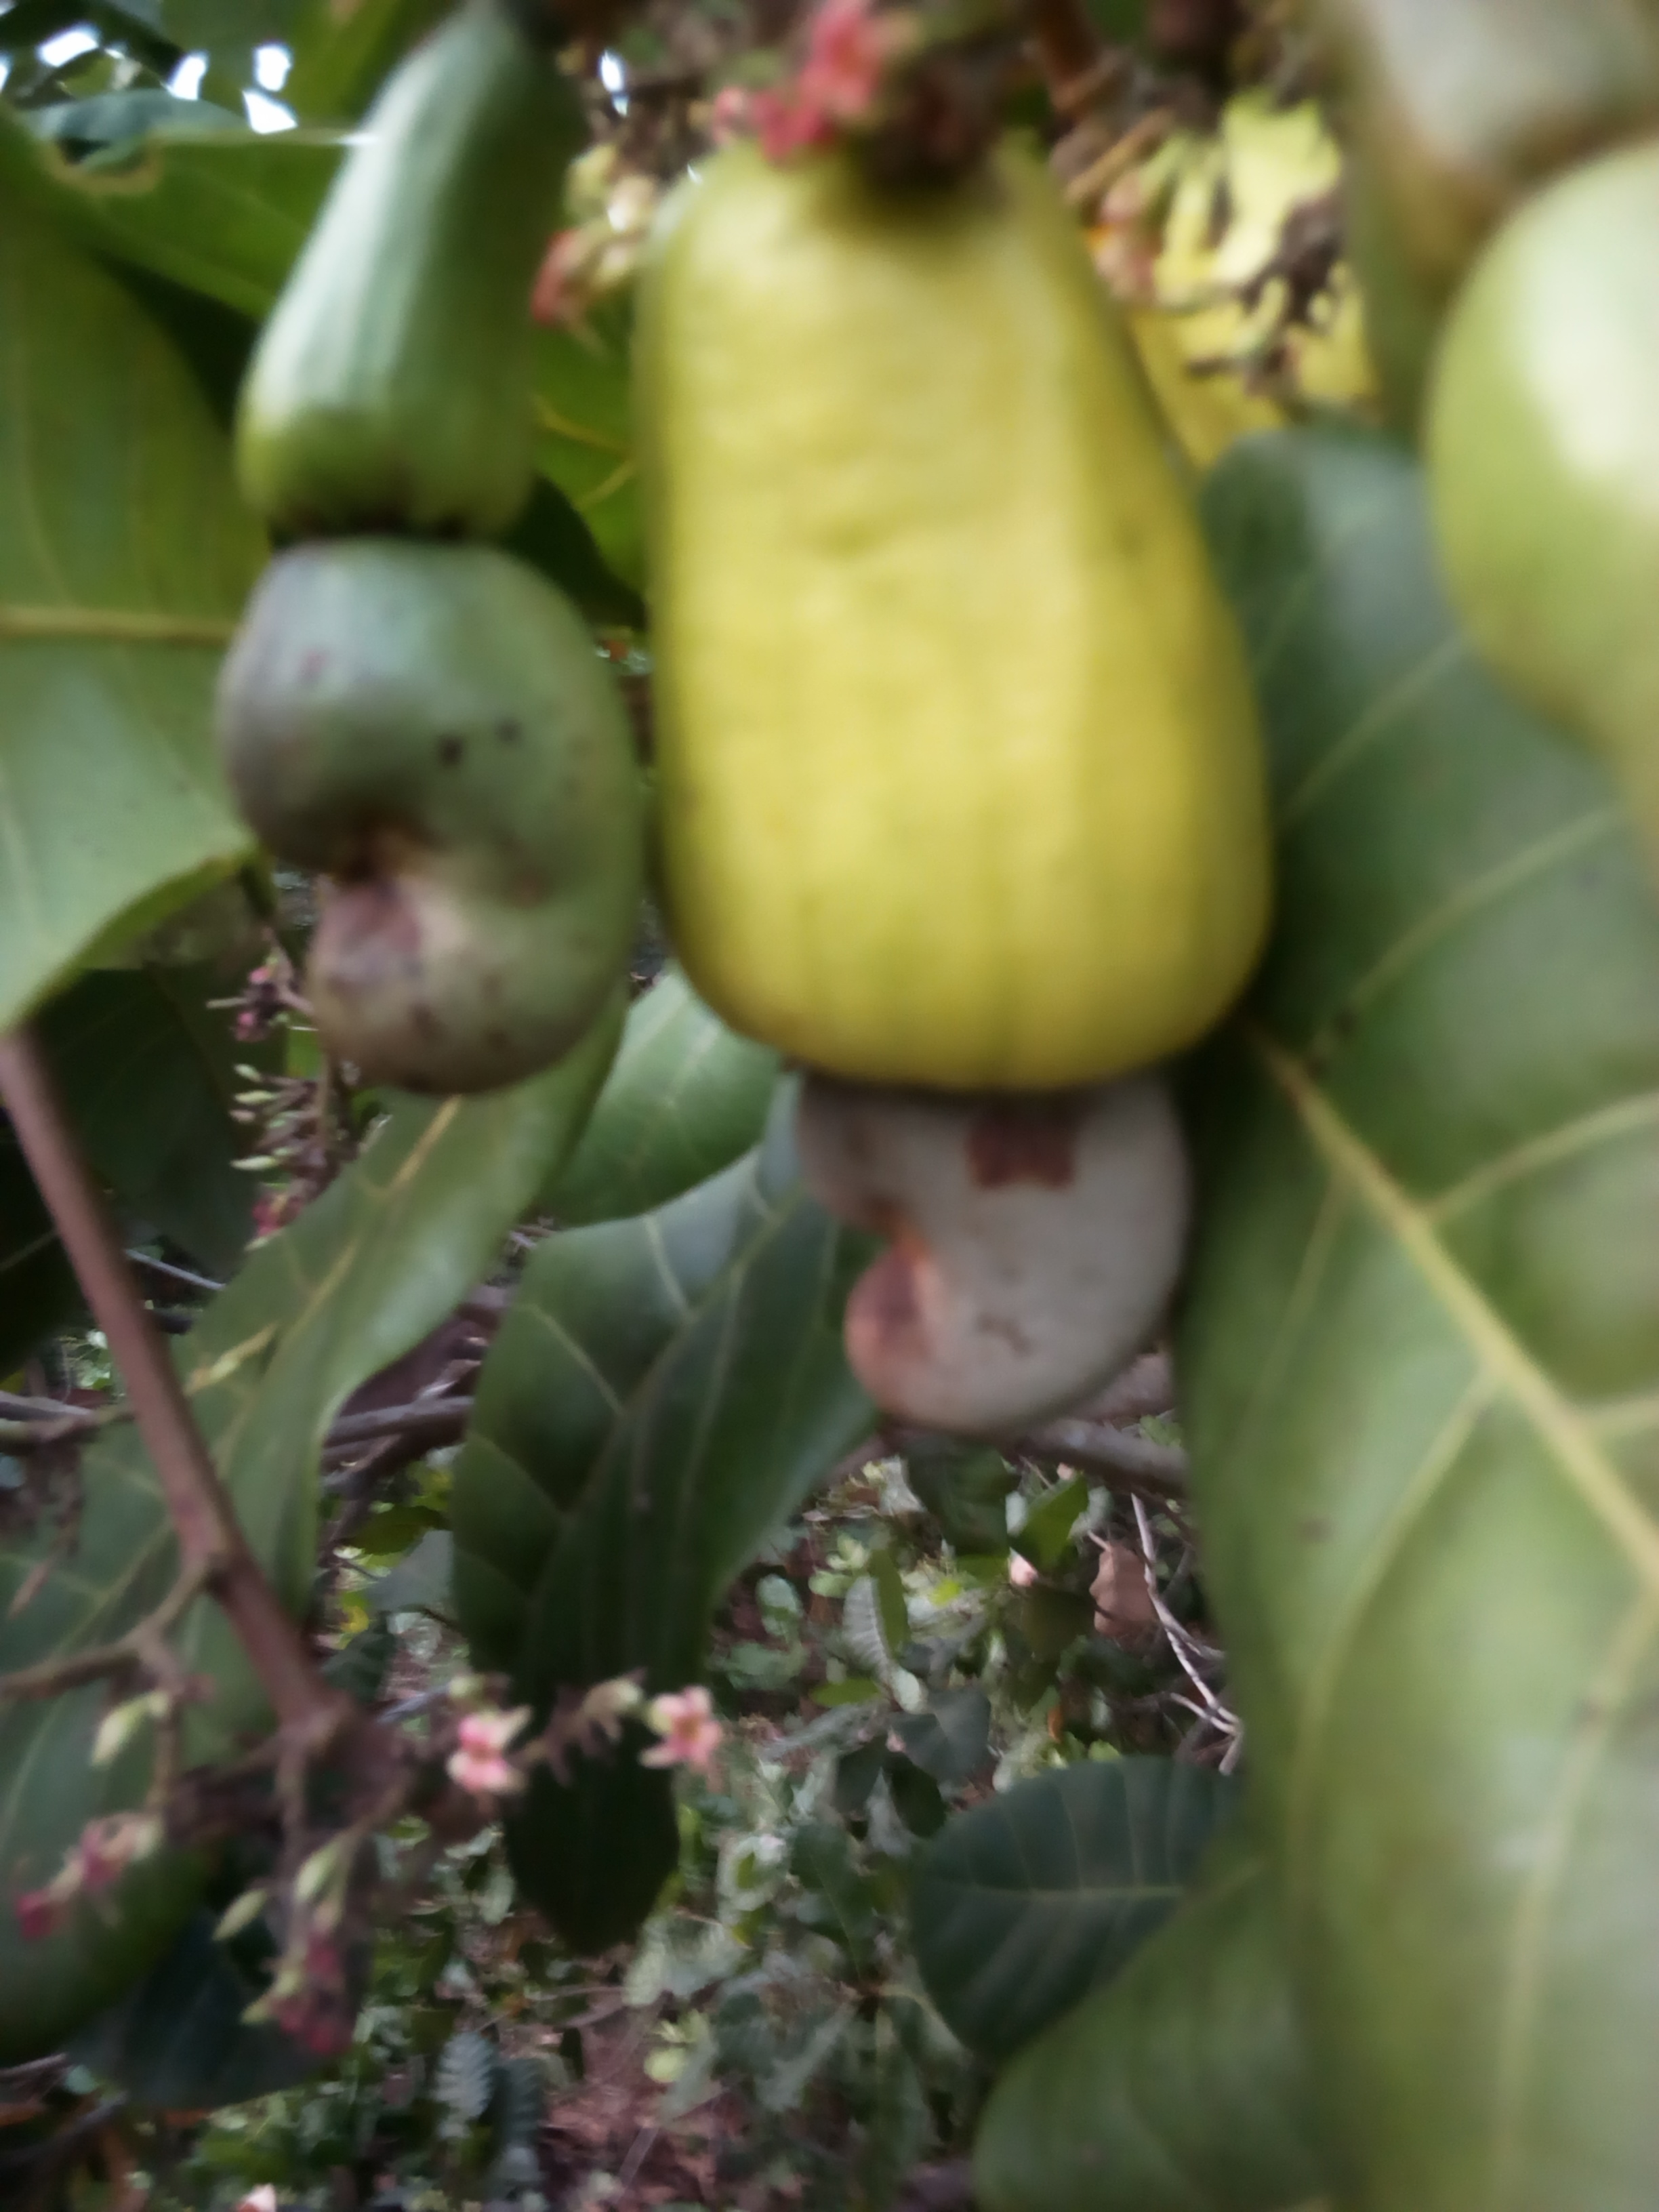Bactériose: (240, 519, 636, 1096)
